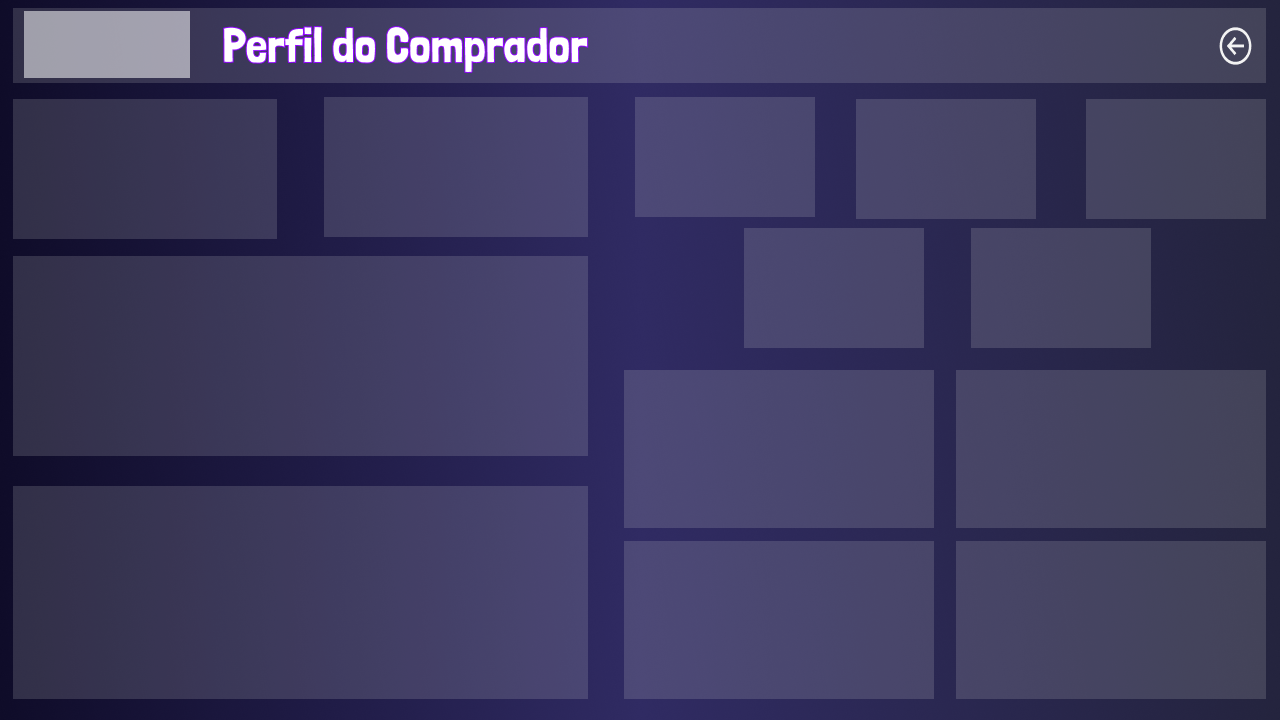

The dashboard page shown, as its layout file describes it:
{"tool":"powerbi","page":{"name":"Página 2","canvas":[1280,720],"ordinal":1},"visuals":[{"type":"card","title":"Média Salarial","fields":{"Values":["Medidas.Média Salarial"]},"box":[16.9,100.4,257.8,132.4],"z":0},{"type":"card","title":"Migrar para Área","fields":{"Values":["Medidas.%MigrarParaArea"]},"box":[327.1,100.4,253.3,132.4],"z":1000},{"type":"clusteredBarChart","title":"Tempo Disponível para Estudo","fields":{"Y":["Medidas.Total de Compradores"],"Category":["Compradores.Quanto tempo disponível você tem?"]},"box":[16.9,258.7,563.6,197.3],"z":2000},{"type":"barChart","title":"Formação","fields":{"Category":["Compradores.Qual é a sua formação?"],"Y":["Medidas.Total de Compradores"]},"box":[16.9,489.8,563.6,206.2],"z":3000},{"type":"card","title":"Conhecimento PowerBI","fields":{"Values":["Medidas.%ConhecimentoPBi"]},"box":[1087.1,100.4,180.4,121.8],"z":4000},{"type":"card","title":"Conhecimento SQL","fields":{"Values":["Medidas.%ConhecimentoSQL"]},"box":[624,98.7,190.2,117.3],"z":5000},{"type":"card","title":"Conhecimento Gestão de Proj.","fields":{"Values":["Medidas.%ConhecimentoGestaoProj"]},"box":[856.9,98.7,182.2,117.3],"z":6000},{"type":"card","title":"Conhecimento Excel","fields":{"Values":["Medidas.%ConhecimentoExcel"]},"box":[737.8,226.7,186.7,118.2],"z":7000},{"type":"card","title":"Conhecimento em Dados","fields":{"Values":["Medidas.%ConhecimentoTema"]},"box":[968,232.9,187.6,112],"z":8000},{"type":"clusteredBarChart","title":"Nível em Excel (Procv, Somase, Tab. Dinâmica)","fields":{"Category":["Compradores.Qual o seu nível de Excel (Procv, Somase, Somases, tabela dinâmica)?"],"Y":["Medidas.Total de Compradores"]},"box":[624,545,300,163],"z":9000},{"type":"clusteredBarChart","title":"Conhecimento em Power BI (DAX, M)","fields":{"Category":["Compradores.Qual o seu nível de Excel (Procv, Somase, Somases, tabela dinâmica)?"],"Y":["Medidas.Total de Compradores"]},"box":[624,373.3,308.4,152.9],"z":10000},{"type":"clusteredBarChart","title":"Nível de SQL (Select, Joins, Aggregates)","fields":{"Category":["Compradores.Qual o seu nível de SQL (select, joins, agregate…)?"],"Y":["Medidas.Total de Compradores"]},"box":[957.3,373.3,310.2,155.6],"z":11000},{"type":"clusteredBarChart","title":"Já teve contato com Kanban/Skrum ?","fields":{"Category":["Compradores.Você trabalha bem com Kanban ou Scrum? "],"Y":["Medidas.Total de Compradores"]},"box":[957,545,303,160],"z":12000},{"type":"actionButton","box":[1216.9,24,34.7,45.3],"z":14000}]}

Visuals, with their boxes in screenshot pixels (x1, y1, x2, y2), scaled from the page's 1280x720 canvas onto the 1280x720 screenshot:
"Média Salarial" card: left=17, top=100, right=275, bottom=233
"Migrar para Área" card: left=327, top=100, right=580, bottom=233
"Tempo Disponível para Estudo" clusteredBarChart: left=17, top=259, right=580, bottom=456
"Formação" barChart: left=17, top=490, right=580, bottom=696
"Conhecimento PowerBI" card: left=1087, top=100, right=1268, bottom=222
"Conhecimento SQL" card: left=624, top=99, right=814, bottom=216
"Conhecimento Gestão de Proj." card: left=857, top=99, right=1039, bottom=216
"Conhecimento Excel" card: left=738, top=227, right=924, bottom=345
"Conhecimento em Dados" card: left=968, top=233, right=1156, bottom=345
"Nível em Excel (Procv, Somase, Tab. Dinâmica)" clusteredBarChart: left=624, top=545, right=924, bottom=708
"Conhecimento em Power BI (DAX, M)" clusteredBarChart: left=624, top=373, right=932, bottom=526
"Nível de SQL (Select, Joins, Aggregates)" clusteredBarChart: left=957, top=373, right=1268, bottom=529
"Já teve contato com Kanban/Skrum ?" clusteredBarChart: left=957, top=545, right=1260, bottom=705
actionButton: left=1217, top=24, right=1252, bottom=69
